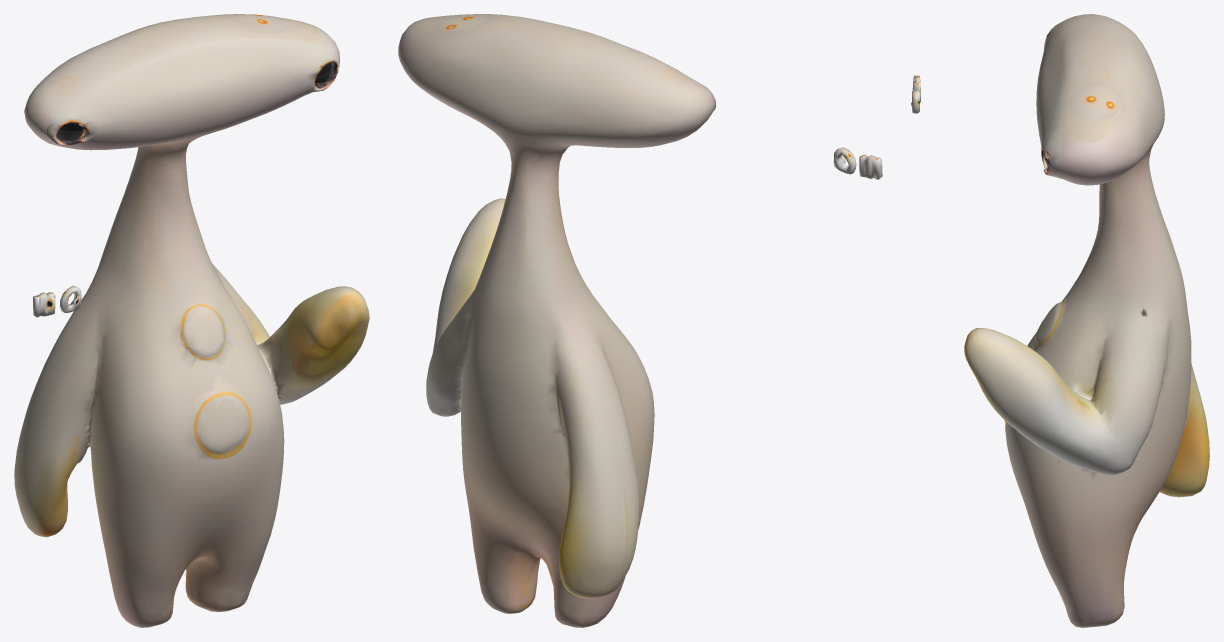
File: Meshy_AI_Alien_Wave_1220084152_texture.fbx
3 renders of one model, left to right at view 1: azimuth 30°, elevation 25°; view 2: azimuth 150°, elevation 25°; view 3: azimuth 270°, elevation 25°, orthographic. The views are drawn at different scales.
Parts seen in each view (by area): view 1: input; view 2: input; view 3: input.
Part boxes in pixels (left/top/right/bottom): input: left=14, top=14, right=369, bottom=627; input: left=398, top=14, right=882, bottom=627; input: left=911, top=14, right=1209, bottom=627.
Size of the model in its own units: 138 by 200 by 97.58.
Materials: 1 (1 with a texture image).
